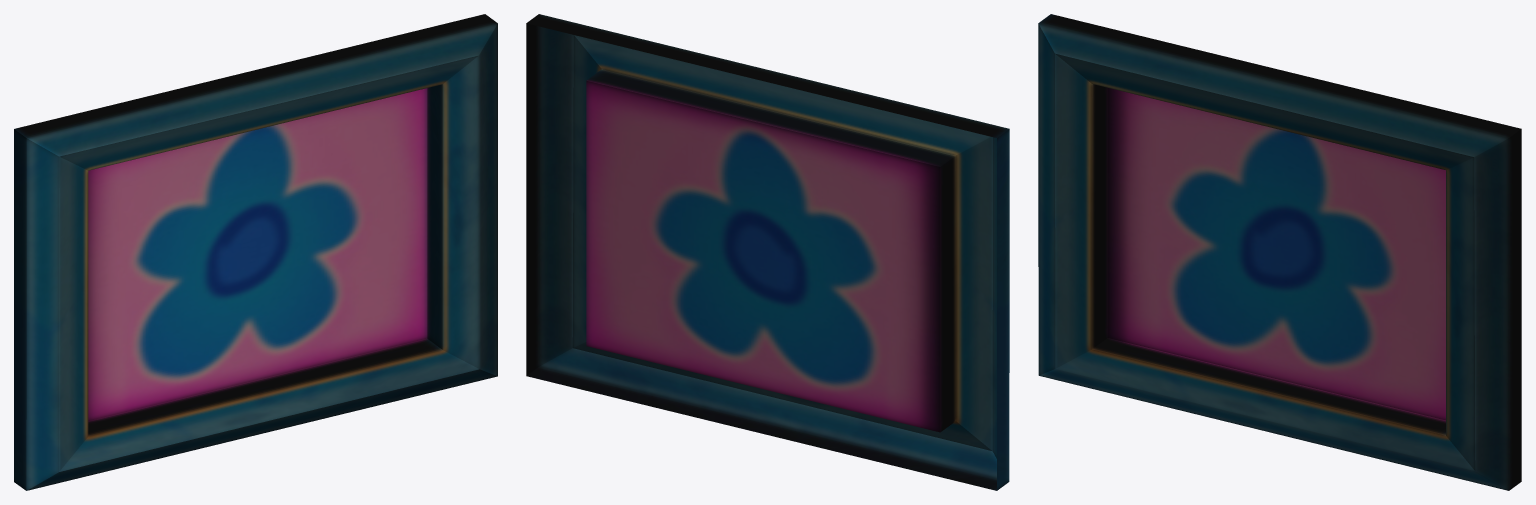
The model's file is videoframe4.dae.
The picture shows the model from 3 angles, left to right: view 1: azimuth 30°, elevation 25°; view 2: azimuth 150°, elevation 25°; view 3: azimuth 330°, elevation 25°; orthographic projection.
Parts seen in each view (by area): view 1: Frame4, Image4; view 2: Image4, Frame4; view 3: Frame4, Image4.
Boxes of the visible parts, <box> form: Frame4: <box>14,14,497,490</box>; Image4: <box>88,88,427,420</box>; Image4: <box>586,80,940,432</box>; Frame4: <box>526,14,1009,490</box>; Frame4: <box>1038,14,1521,490</box>; Image4: <box>1107,88,1445,420</box>.
Size of the model in its own units: 2.84 by 2.04 by 0.2153.
Materials: 1 (1 with a texture image).
